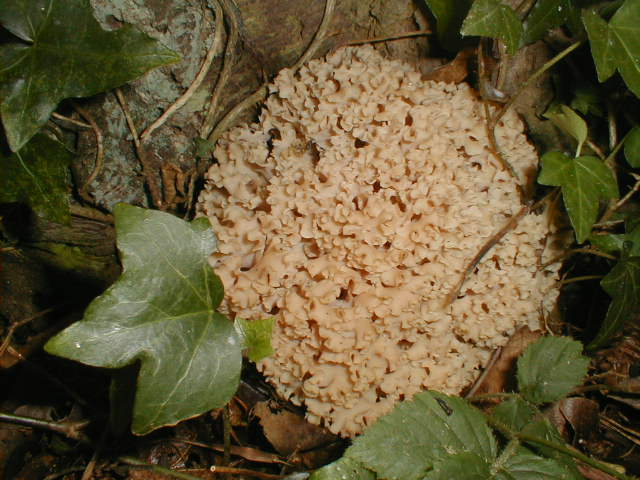cauliflower: (189, 51, 561, 438)
